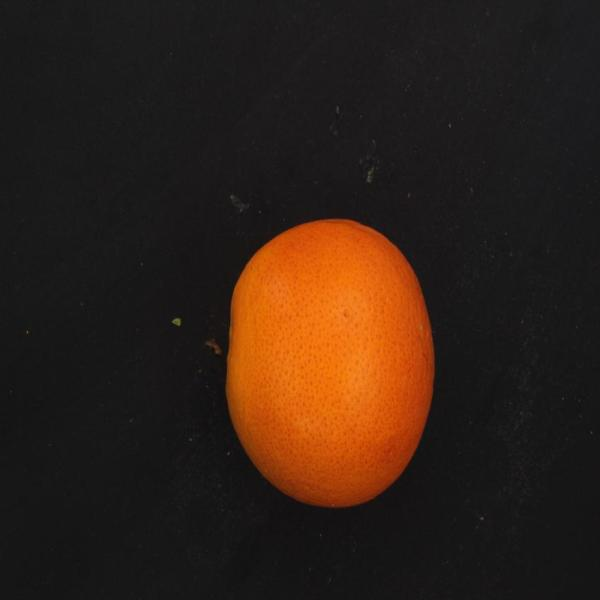Sana: (219, 212, 448, 513)
